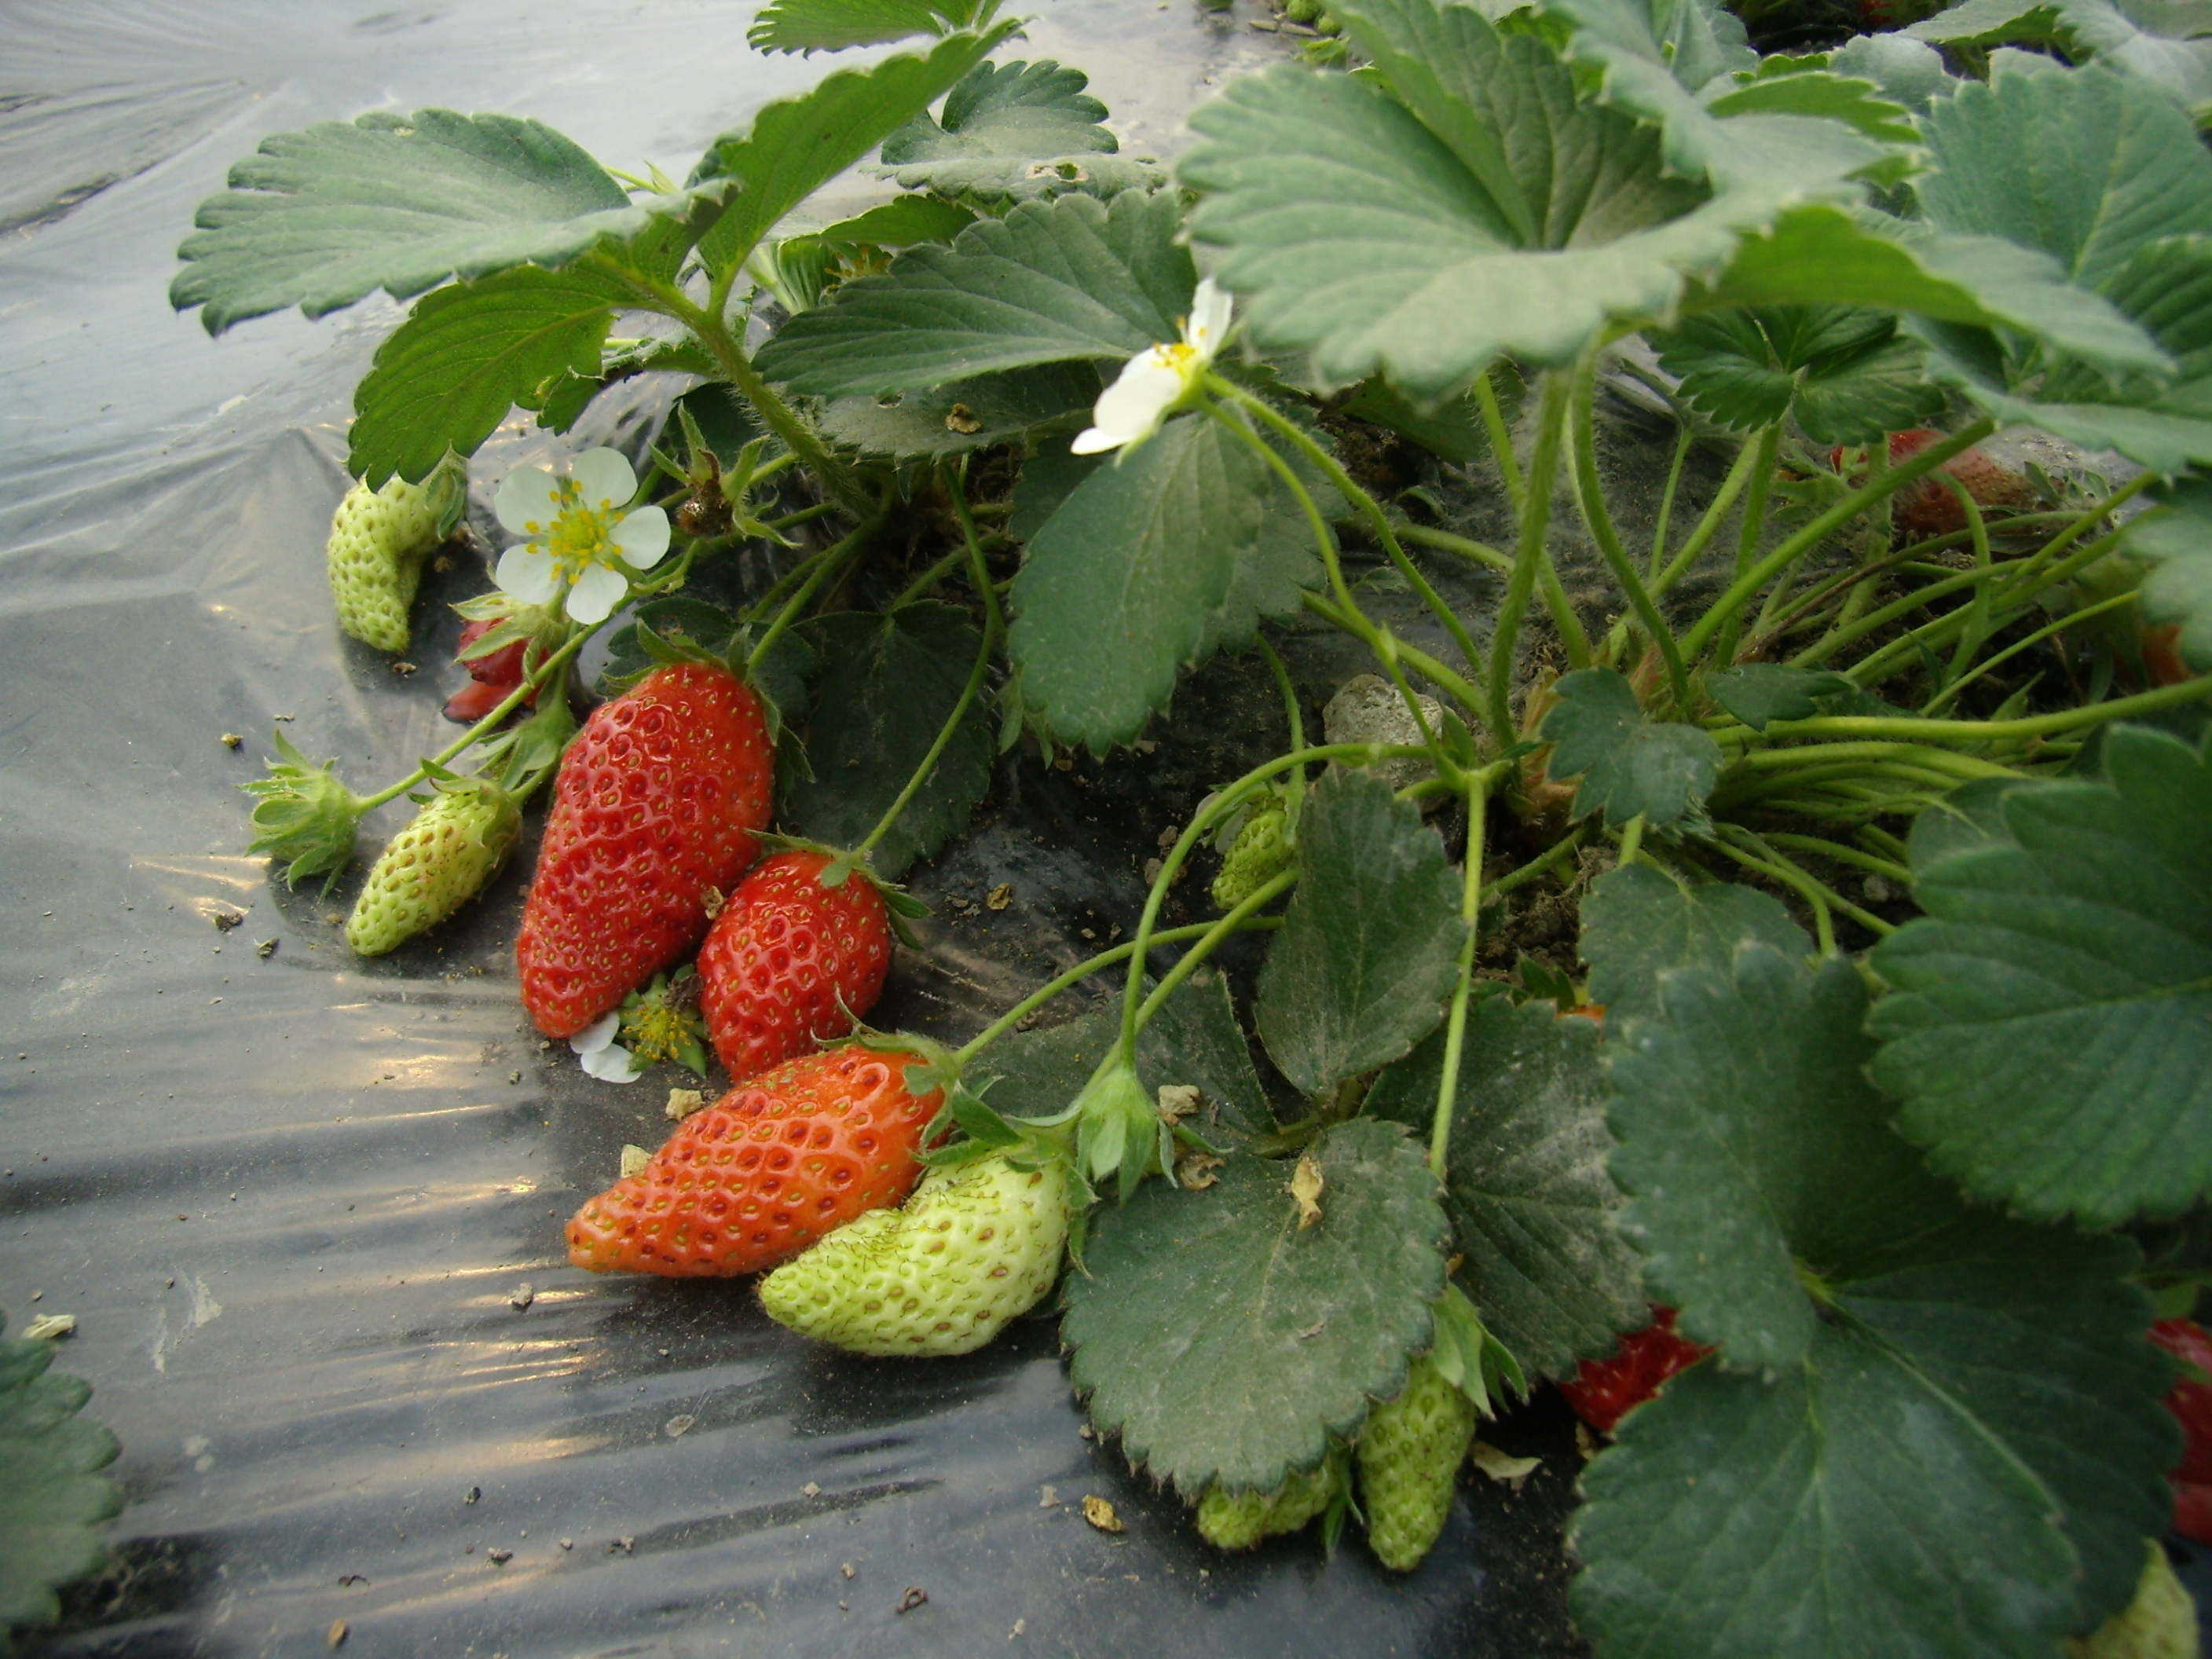StrawberryFusiform: (521, 647, 772, 1047), (688, 843, 913, 1068)
StrawberryIrremovable: (564, 1039, 951, 1283), (754, 1140, 1075, 1373), (1338, 1316, 1482, 1588), (340, 758, 514, 958), (1827, 404, 2041, 549), (329, 446, 462, 664), (1181, 1432, 1341, 1560), (1211, 802, 1313, 910)
StrawberryOther: (1534, 1256, 1740, 1459), (2083, 1284, 2210, 1560)
StrawberryRemovable: (521, 655, 775, 1046), (691, 849, 902, 1065), (1543, 1262, 1733, 1450), (2094, 1286, 2210, 1572)
